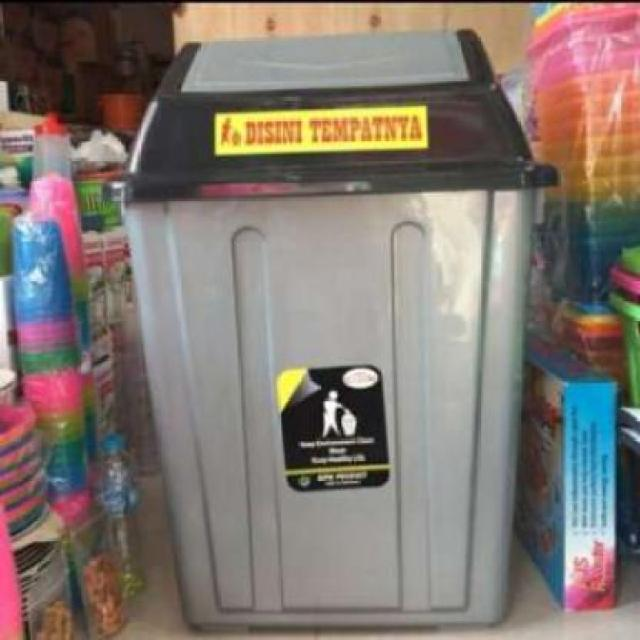garbage container: (113, 26, 567, 640)
